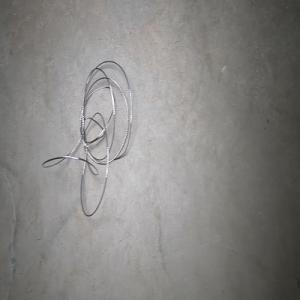Wire: (41, 60, 132, 216)
